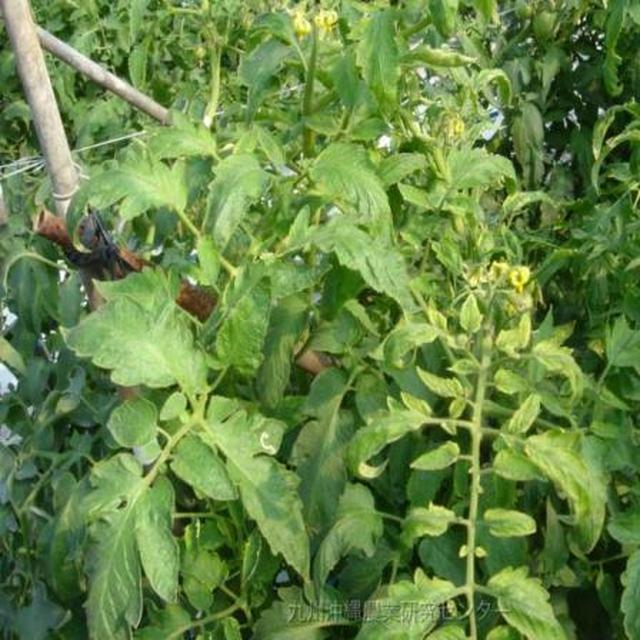Yellow Leaf Curl Virus: (53, 47, 640, 640)
